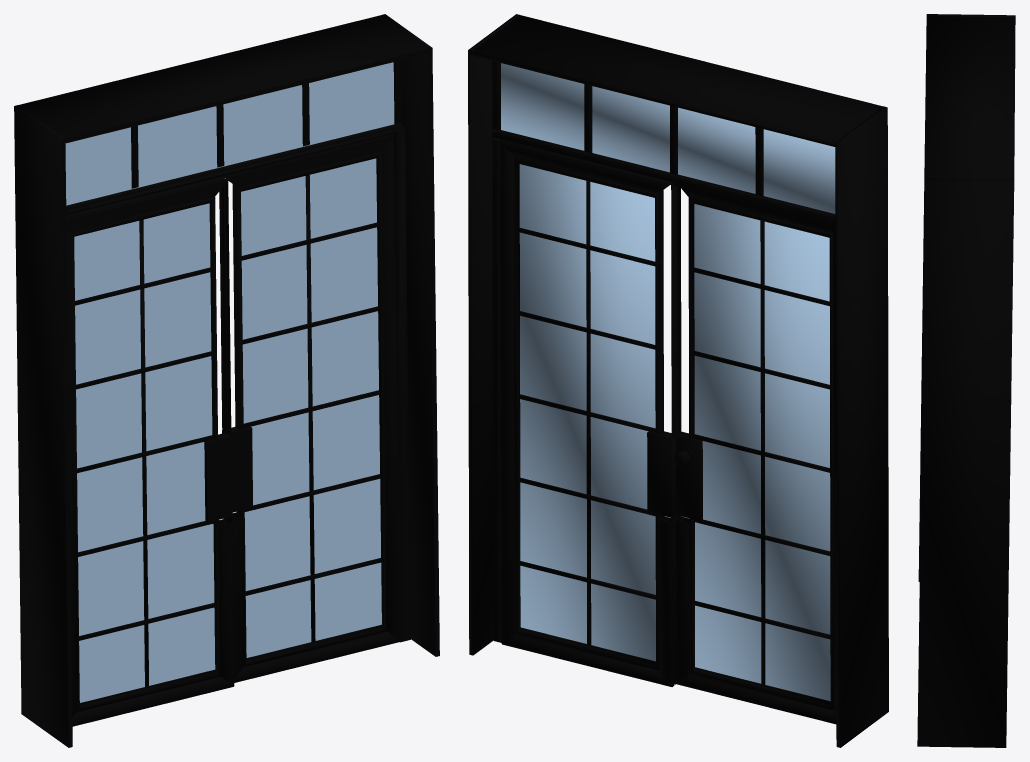
Rendered from Puerta.obj.
3 views of the same model, side by side, from view 1: azimuth 30°, elevation 25°; view 2: azimuth 150°, elevation 25°; view 3: azimuth 270°, elevation 25° (orthographic). The views are drawn at different scales.
Visible parts, largest first — view 1: Marco, cristal1, cristal2, PuertaSinManija, PuertaConManija, cristal3; view 2: Marco, cristal2, cristal1, PuertaSinManija, PuertaConManija, cristal3; view 3: Marco.
Part boxes in pixels (x1=…): Marco: x1=14, y1=14, x2=439, y2=747; cristal1: x1=74, y1=203, x2=215, y2=702; cristal2: x1=241, y1=158, x2=381, y2=657; PuertaSinManija: x1=219, y1=134, x2=399, y2=682; PuertaConManija: x1=66, y1=176, x2=234, y2=726; cristal3: x1=65, y1=62, x2=394, y2=205; Marco: x1=468, y1=14, x2=888, y2=747; cristal2: x1=519, y1=164, x2=655, y2=661; cristal1: x1=694, y1=204, x2=830, y2=701; PuertaSinManija: x1=500, y1=140, x2=677, y2=686; PuertaConManija: x1=674, y1=186, x2=836, y2=724; cristal3: x1=501, y1=63, x2=835, y2=213; Marco: x1=917, y1=14, x2=1015, y2=747.
Bounding box in the file's own units: 1.29 × 2.01 × 0.3151.
Materials: 2 (1 with a texture image).
